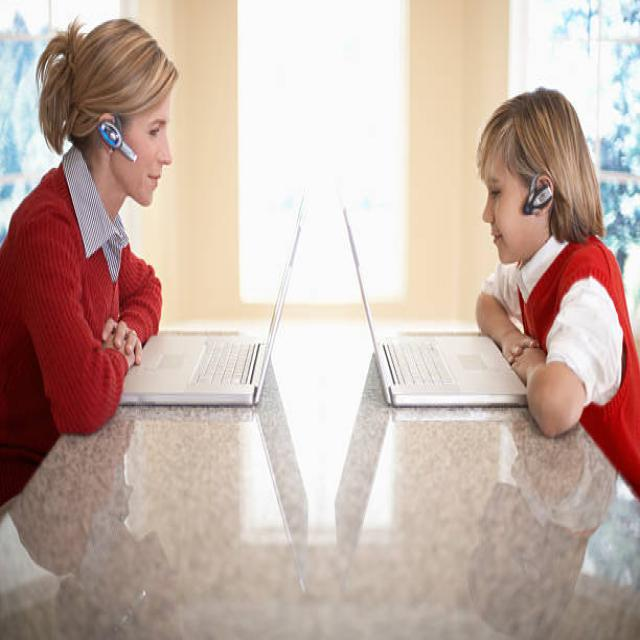airpods: (99, 112, 139, 165), (522, 171, 554, 218)
